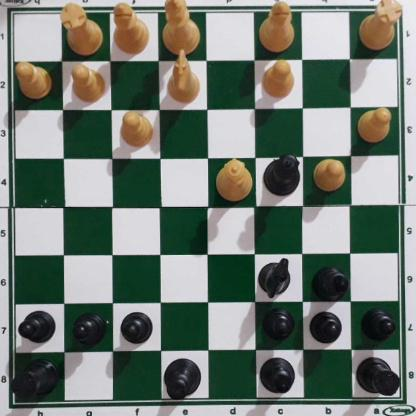black-bishop: (259, 360, 297, 397), (313, 267, 352, 301)
black-king: (162, 360, 204, 402)
black-knight: (260, 261, 293, 300)
black-pawn: (20, 311, 56, 347), (72, 315, 106, 348), (121, 314, 153, 349), (311, 312, 343, 347), (362, 313, 396, 344), (264, 311, 295, 345)
black-queen: (262, 152, 302, 197)
black-rook: (356, 358, 404, 400), (14, 361, 58, 406)
white-bishop: (113, 2, 151, 55), (259, 2, 295, 55)
white-king: (162, 0, 202, 58)
white-knight: (167, 52, 201, 105)
white-pawn: (69, 66, 107, 106), (16, 65, 53, 102), (358, 109, 395, 145), (262, 62, 296, 101), (312, 159, 348, 195), (121, 113, 155, 151)
white-queen: (216, 158, 253, 203)
white-rook: (361, 1, 401, 56), (63, 7, 104, 53)
